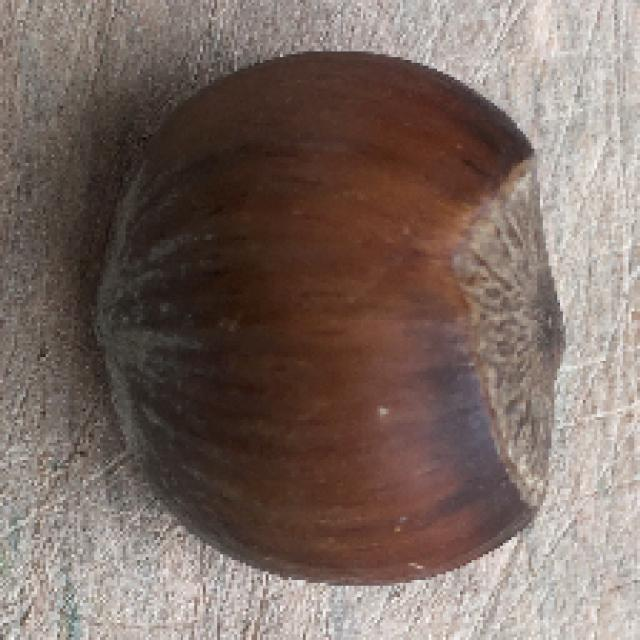damagedHazelnut: (103, 44, 565, 587)
